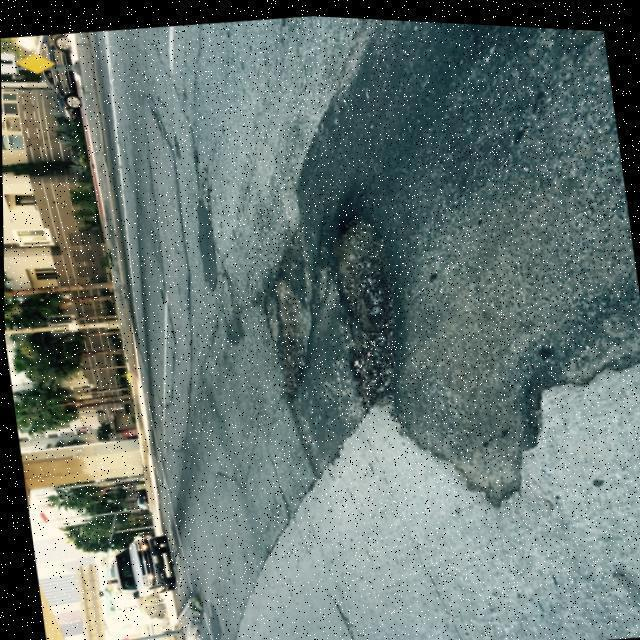Pothole: (328, 203, 401, 411), (264, 227, 317, 405)
